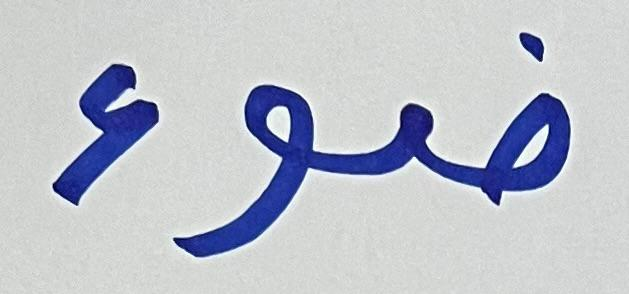dad: (339, 26, 580, 210)
hamza: (34, 33, 164, 208)
waw: (171, 64, 335, 262)
